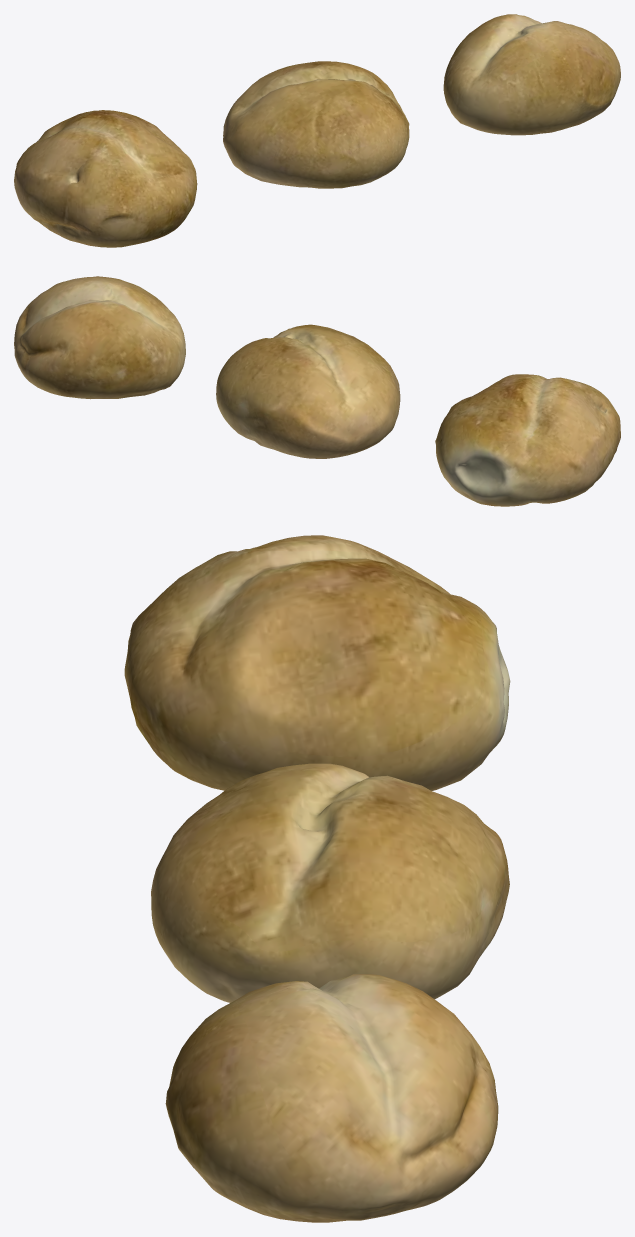
Rendered from hamburger_buns.glb.
The picture shows the model from 3 angles, top to bottom: view 1: azimuth 30°, elevation 25°; view 2: azimuth 150°, elevation 25°; view 3: azimuth 270°, elevation 25°; orthographic projection. The views are drawn at different scales.
Parts seen in each view (by area): view 1: hamburger_buns_01, hamburger_buns_02, hamburger_buns_03; view 2: hamburger_buns_01, hamburger_buns_02, hamburger_buns_03; view 3: hamburger_buns_01, hamburger_buns_02, hamburger_buns_03.
Boxes of the visible parts, <box> form: hamburger_buns_01: <box>14,110,197,247</box>; hamburger_buns_02: <box>223,61,409,188</box>; hamburger_buns_03: <box>443,14,620,135</box>; hamburger_buns_01: <box>435,374,620,506</box>; hamburger_buns_02: <box>216,324,400,458</box>; hamburger_buns_03: <box>14,276,185,399</box>; hamburger_buns_01: <box>124,535,510,790</box>; hamburger_buns_02: <box>151,763,509,1002</box>; hamburger_buns_03: <box>165,974,498,1222</box>.
Size of the model in its own units: 0.3972 by 0.0634 by 0.1138.
Materials: 1 (1 with a texture image).
